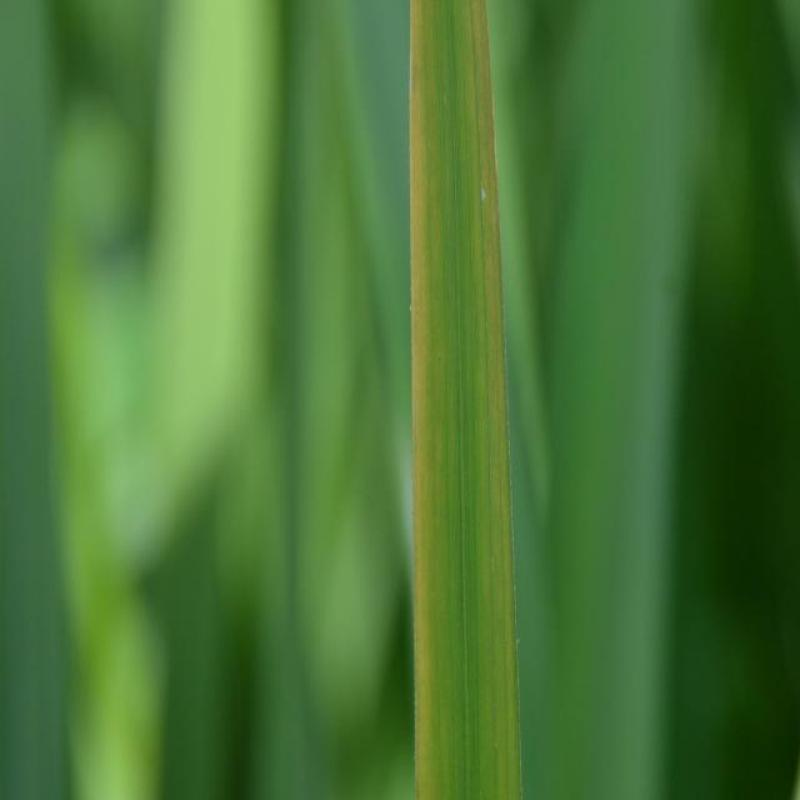Rice Tungro: (379, 6, 550, 794)
